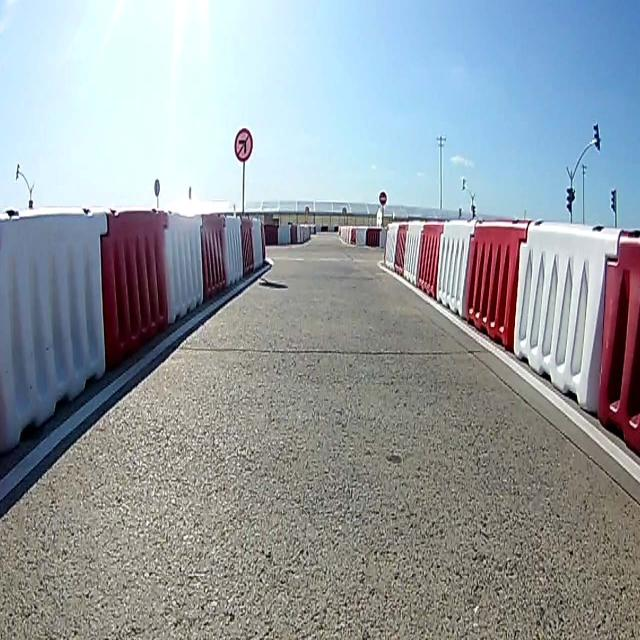girisyok: (379, 191, 387, 204)
soladonulmez: (234, 128, 252, 164)
